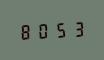eight: (18, 21, 34, 40)
five: (52, 19, 68, 39)
three: (69, 19, 85, 38)
zero: (35, 20, 51, 40)
